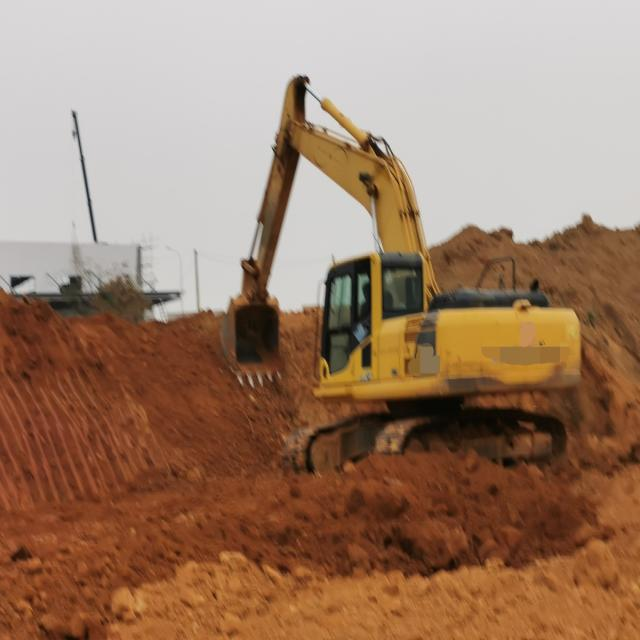crane: (70, 109, 97, 242)
excavator: (220, 74, 582, 477)
